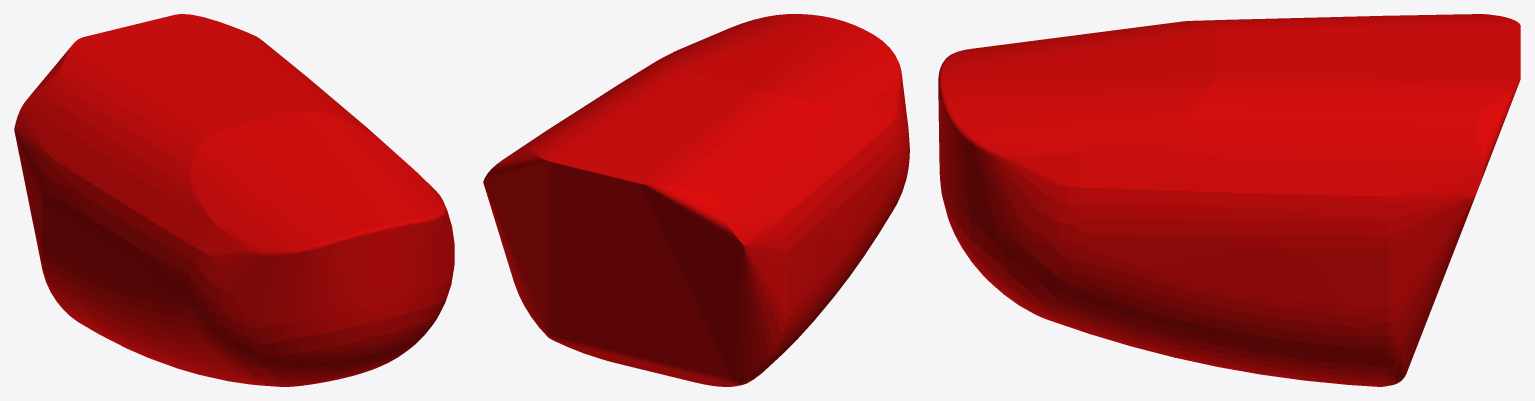
File: th_distal_pst_cvx.obj
3 renders of one model, left to right at view 1: azimuth 30°, elevation 25°; view 2: azimuth 150°, elevation 25°; view 3: azimuth 270°, elevation 25°, orthographic. The views are drawn at different scales.
Bounding box in the file's own units: 21.17 × 17.83 × 31.65.
